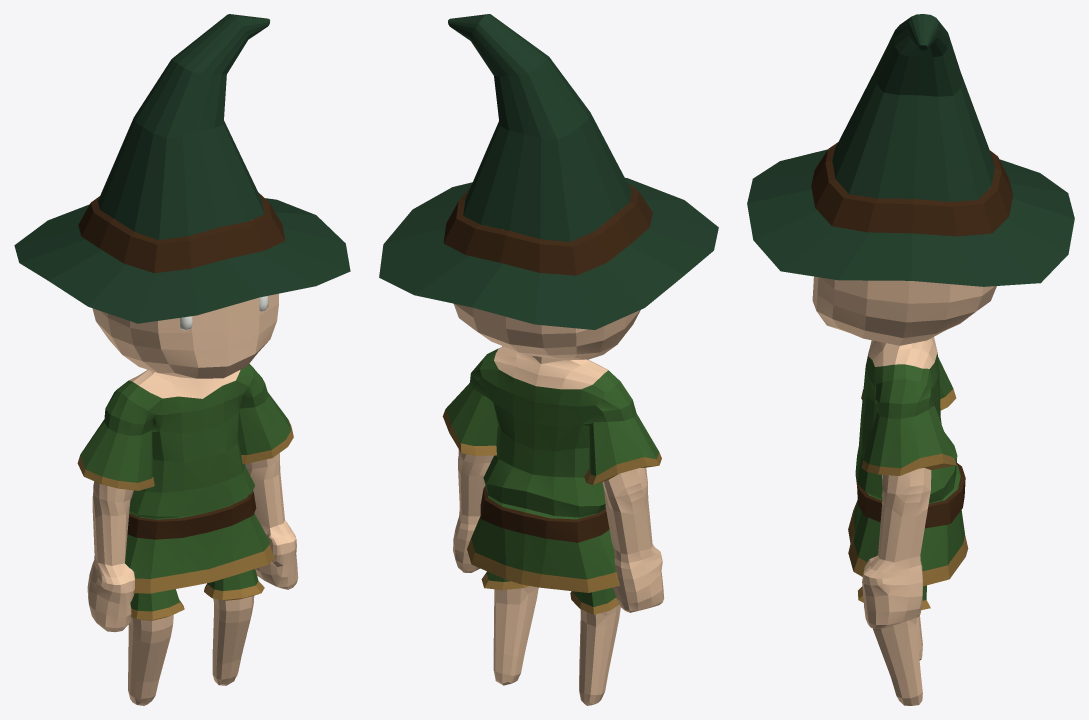
Rendered from debout-elf.glb.
The picture shows the model from 3 angles, left to right: view 1: azimuth 30°, elevation 25°; view 2: azimuth 150°, elevation 25°; view 3: azimuth 270°, elevation 25°; orthographic projection. The views are drawn at different scales.
Visible parts, largest first — view 1: Cube004_4, Cube004_1, Cube004, Cube004_2, Cube004_3; view 2: Cube004_4, Cube004_1, Cube004, Cube004_2, Cube004_3; view 3: Cube004_4, Cube004, Cube004_1, Cube004_2, Cube004_3.
Part boxes in pixels (box(x1,y1,x2,y2)): Cube004_4: box(14, 14, 350, 323); Cube004_1: box(80, 364, 291, 611); Cube004: box(87, 293, 298, 705); Cube004_2: box(78, 192, 285, 539); Cube004_3: box(77, 420, 293, 620); Cube004_4: box(379, 14, 718, 329); Cube004_1: box(445, 346, 659, 606); Cube004: box(453, 303, 664, 705); Cube004_2: box(443, 183, 652, 542); Cube004_3: box(442, 409, 661, 614); Cube004_4: box(747, 14, 1074, 286); Cube004: box(812, 276, 996, 705); Cube004_1: box(853, 349, 964, 600); Cube004_2: box(811, 142, 1012, 528); Cube004_3: box(848, 389, 968, 610).
Bounding box in the file's own units: 0.7391 × 1.74 × 0.7381.
